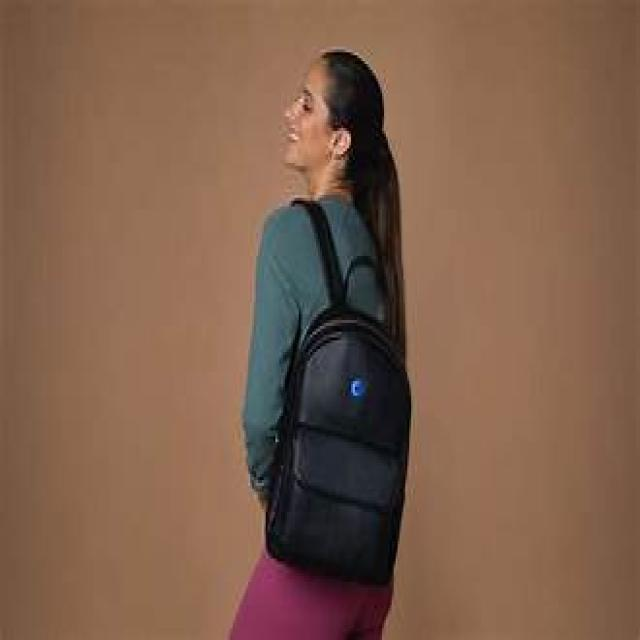backpack: (263, 196, 412, 586)
